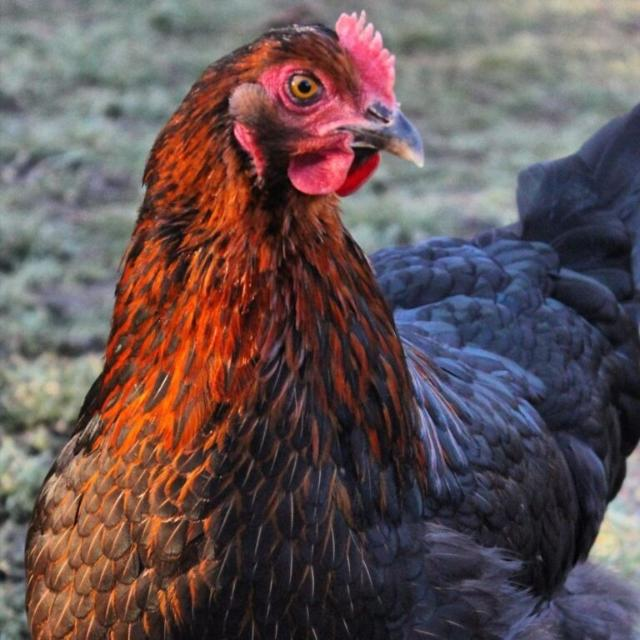Chicken: (26, 12, 639, 640)
